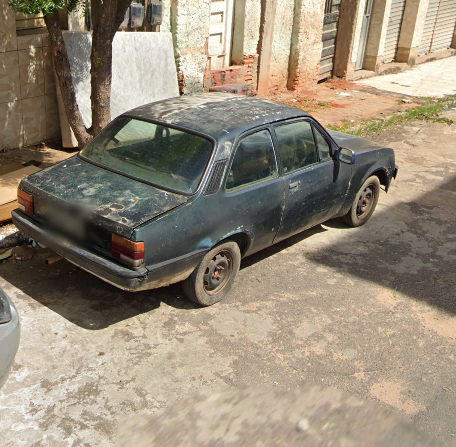car: (9, 84, 403, 309)
